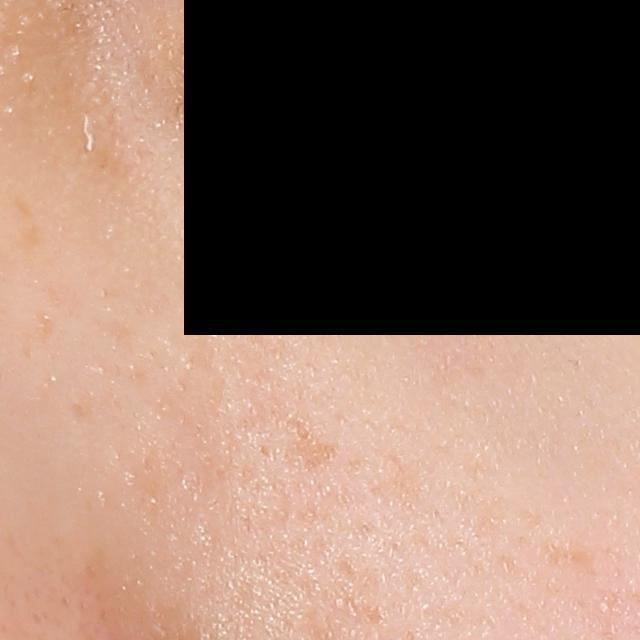melasma: (286, 419, 342, 475), (22, 302, 61, 358), (14, 196, 42, 254)
